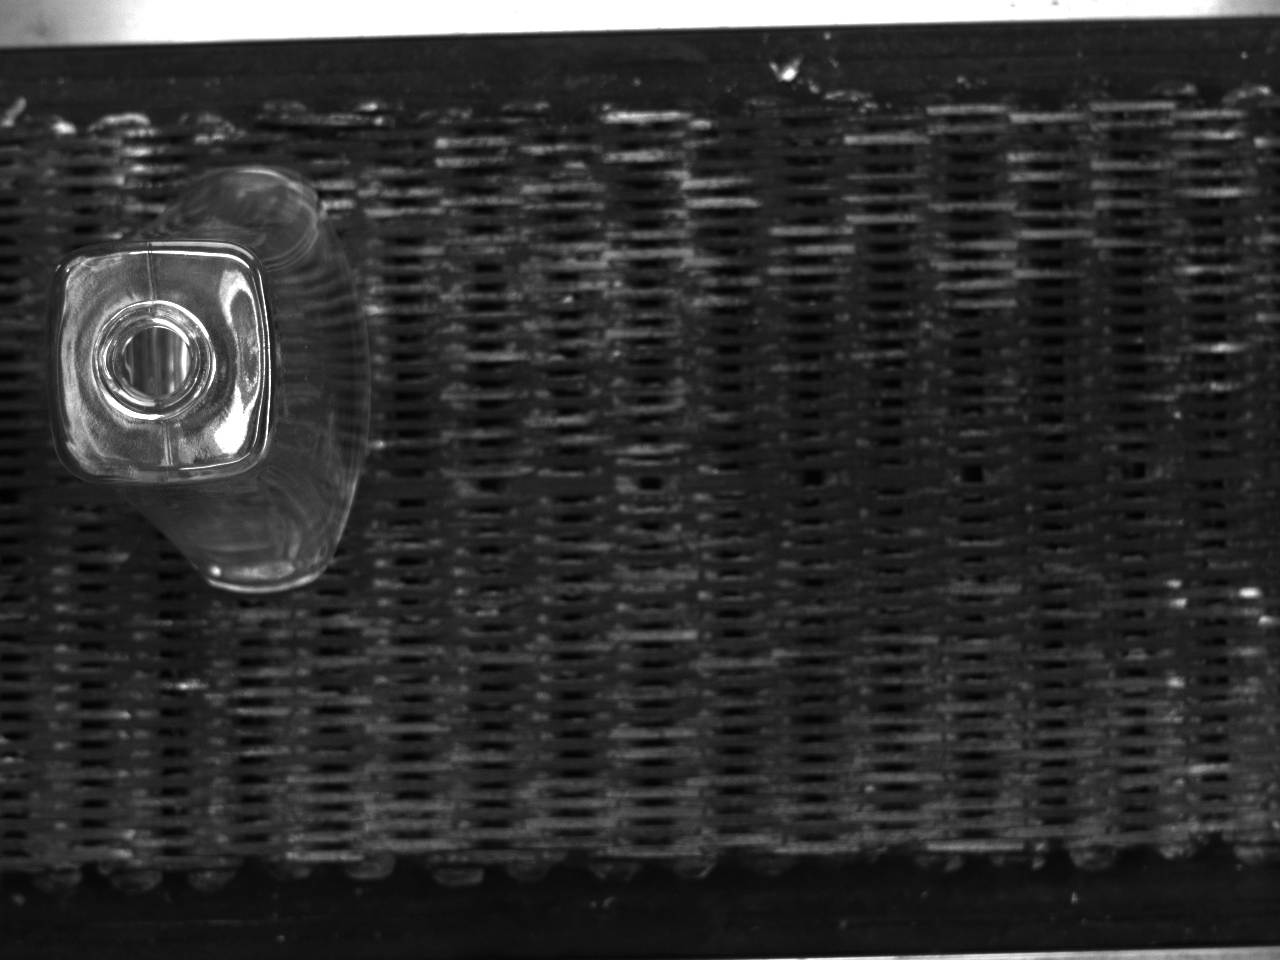bottleneck: (91, 301, 215, 417)
